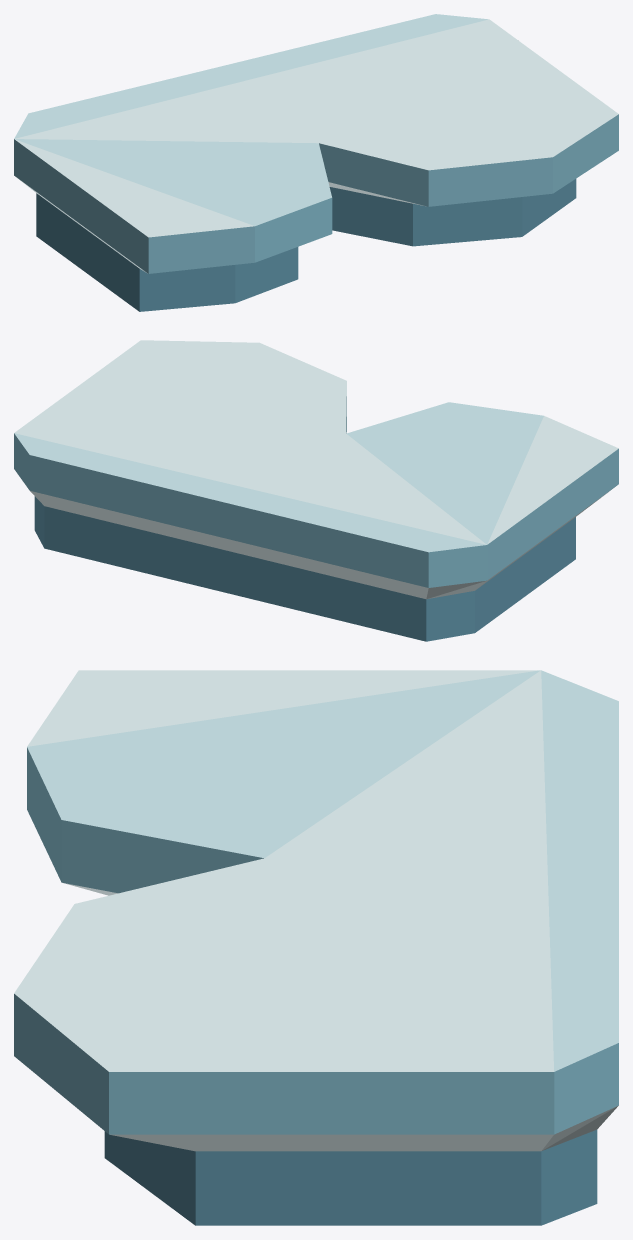
3 renders of one model, top to bottom at view 1: azimuth 30°, elevation 25°; view 2: azimuth 150°, elevation 25°; view 3: azimuth 270°, elevation 25°, orthographic. The views are drawn at different scales.
Visible parts, largest first — view 1: OneFracturedUndercutIceShelf; view 2: OneFracturedUndercutIceShelf; view 3: OneFracturedUndercutIceShelf.
Boxes of the visible parts, box(x1,y1,x2,y2) form: OneFracturedUndercutIceShelf: box(14, 14, 618, 311); OneFracturedUndercutIceShelf: box(14, 340, 618, 641); OneFracturedUndercutIceShelf: box(14, 670, 618, 1225).
Bounding box in the file's own units: 2.2 × 0.43 × 1.4.
